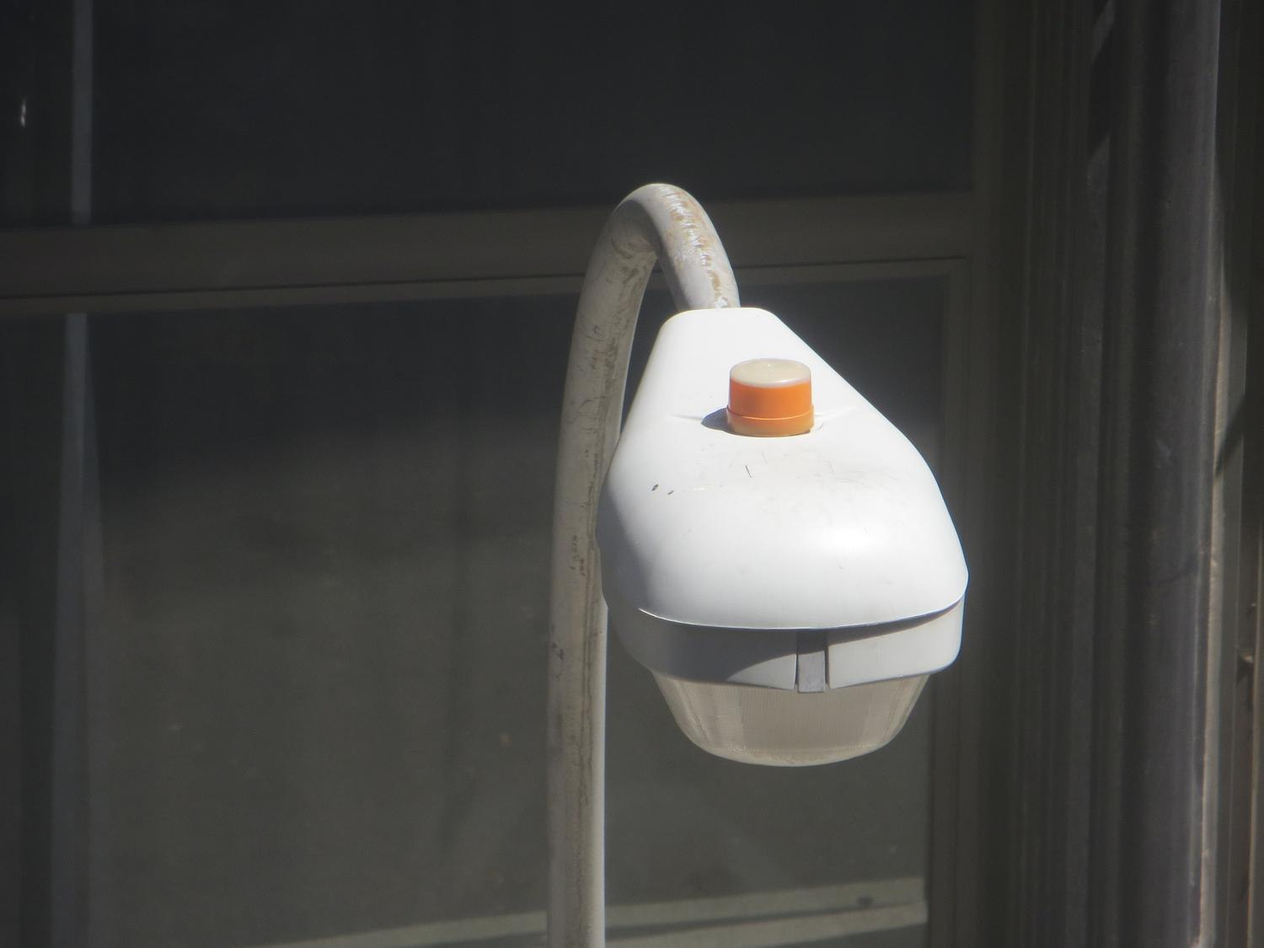Top_Street_Light: (599, 316, 968, 669)
